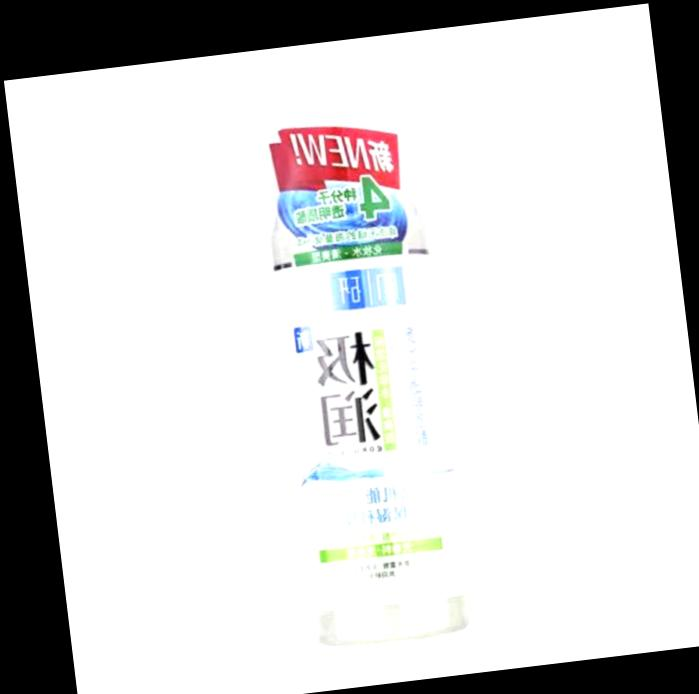cosmetic: (258, 86, 473, 640)
